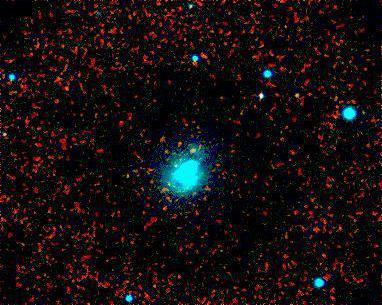star: (181, 132, 211, 162)
